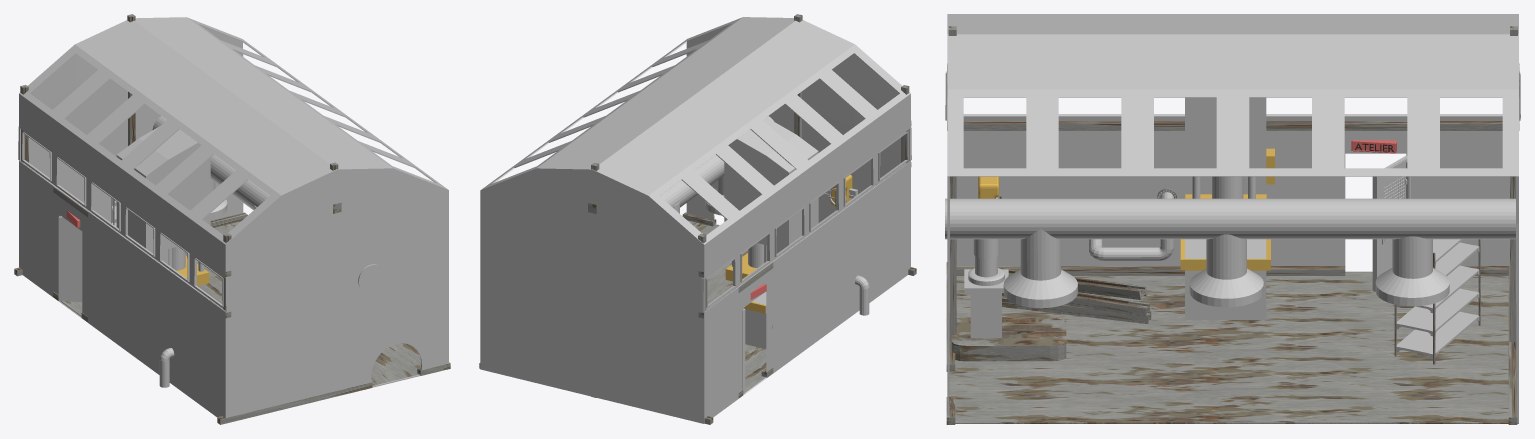
Rendered from 06_VENTILATION.fbx.
3 renders of one model, left to right at view 1: azimuth 30°, elevation 25°; view 2: azimuth 150°, elevation 25°; view 3: azimuth 270°, elevation 25°, orthographic. The views are drawn at different scales.
Parts seen in each view (by area): view 1: STRUCTURE, Cube, PORTE tour, TUYAUX-ventilation, POUTRE.008, TUYAU; view 2: STRUCTURE, Cube, TUYAUX-ventilation, TUYAU; view 3: STRUCTURE, TUYAUX-ventilation, VENTILATEURS-tubes, Cube, Plane, Cube.015, POUTRE.002, POUTRE.007, Cube.016, PORTE tour, TUYAU, Cylinder (+7 smaller).
Part boxes in pixels (left/top/right/bottom): STRUCTURE: left=18, top=17, right=448, bottom=417; Cube: left=116, top=126, right=210, bottom=264; PORTE tour: left=58, top=216, right=82, bottom=301; TUYAUX-ventilation: left=152, top=116, right=384, bottom=292; POUTRE.008: left=217, top=382, right=372, bottom=424; TUYAU: left=159, top=348, right=174, bottom=387; STRUCTURE: left=480, top=17, right=911, bottom=423; Cube: left=724, top=117, right=818, bottom=348; TUYAUX-ventilation: left=659, top=116, right=773, bottom=208; TUYAU: left=855, top=275, right=869, bottom=315; STRUCTURE: left=945, top=14, right=1520, bottom=423; TUYAUX-ventilation: left=945, top=198, right=1515, bottom=239; VENTILATEURS-tubes: left=1003, top=228, right=1449, bottom=308; Cube: left=1180, top=97, right=1270, bottom=319; Plane: left=1396, top=239, right=1479, bottom=359; Cube.015: left=951, top=317, right=1066, bottom=361; POUTRE.002: left=947, top=121, right=1519, bottom=130; POUTRE.007: left=947, top=266, right=1345, bottom=275; Cube.016: left=964, top=269, right=1008, bottom=338; PORTE tour: left=1372, top=156, right=1410, bottom=291; TUYAU: left=1089, top=192, right=1173, bottom=261; Cylinder: left=968, top=239, right=1004, bottom=285.
Size of the model in its own units: 929 by 869 by 1415.
